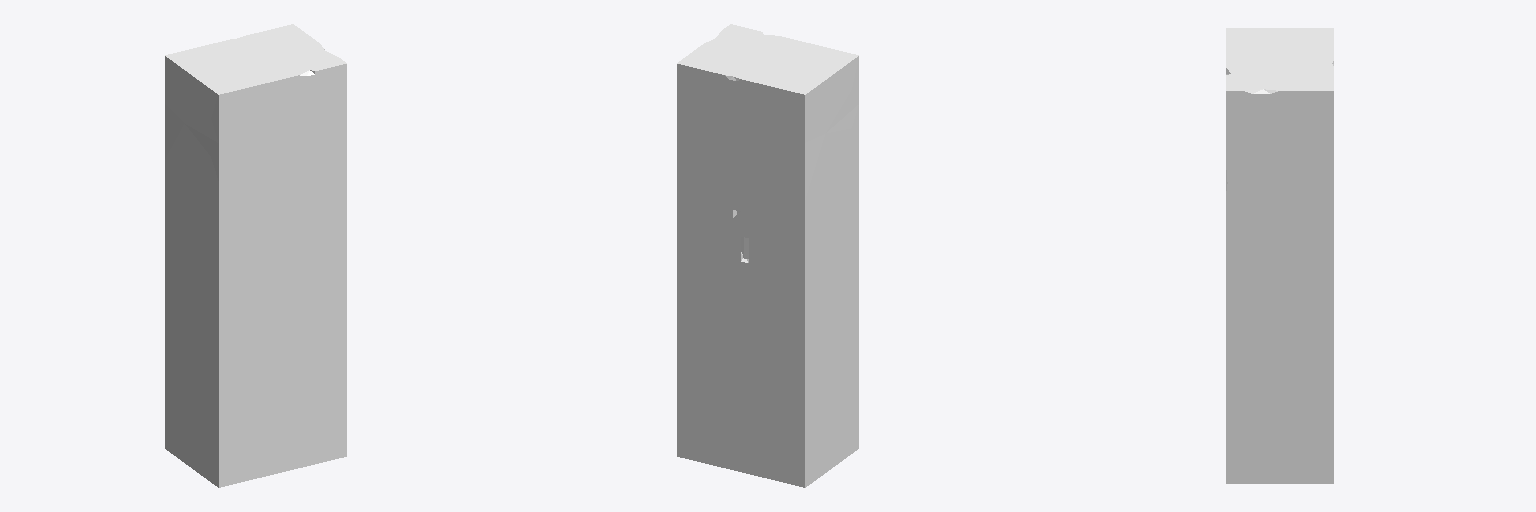
The model's file is Corredor_3_TX.obj.
3 views of the same model, side by side, from view 1: azimuth 30°, elevation 25°; view 2: azimuth 150°, elevation 25°; view 3: azimuth 270°, elevation 25° (orthographic).
Visible parts, largest first — view 1: default; view 2: default; view 3: default.
Boxes of the visible parts, box(x1,y1,x2,y2) form: default: box(165, 24, 346, 487); default: box(677, 24, 858, 487); default: box(1226, 28, 1333, 483).
Size of the model in its own units: 3.24 by 9.44 by 2.35.